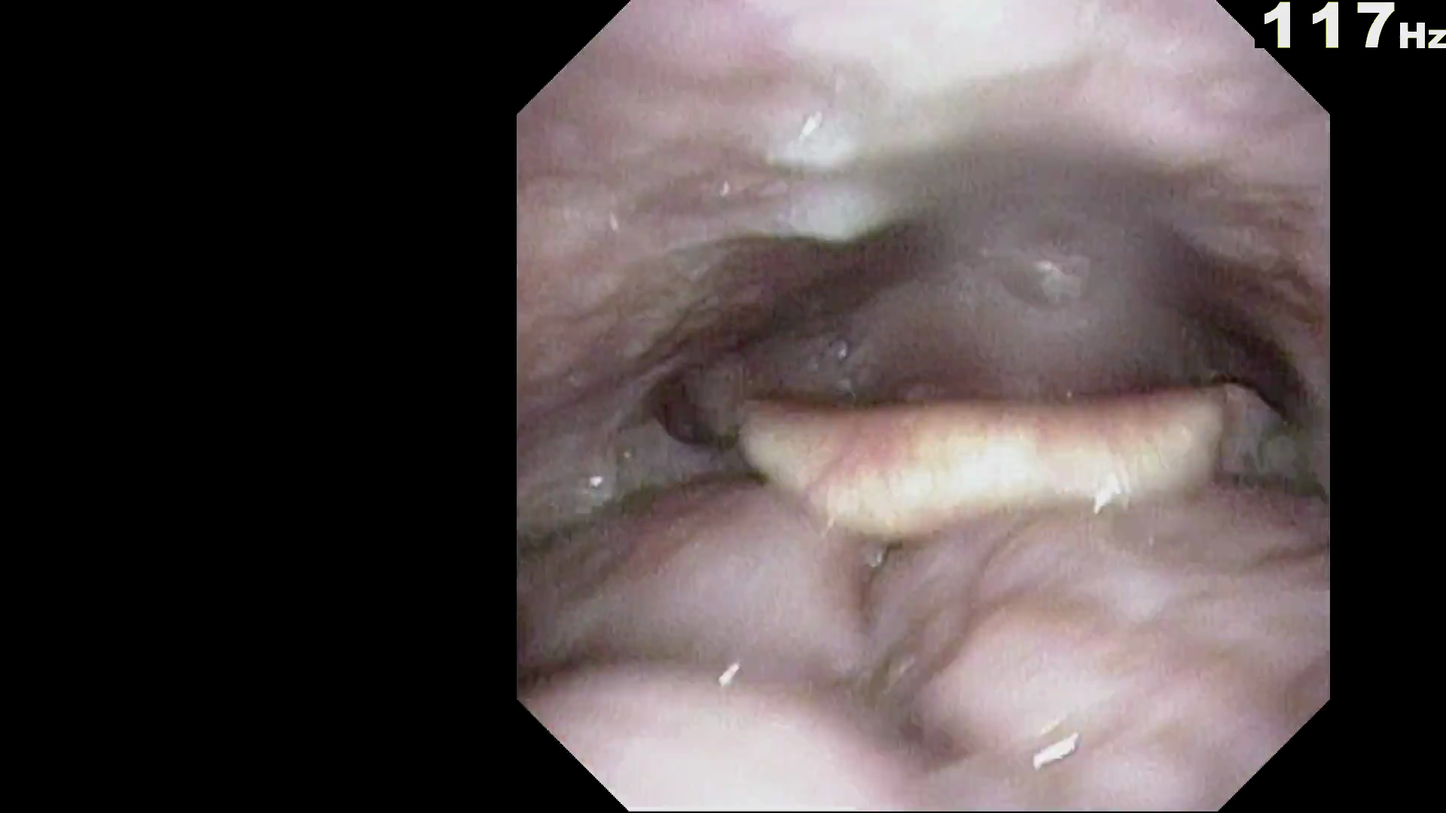epiglottis: (684, 407, 1271, 633)
